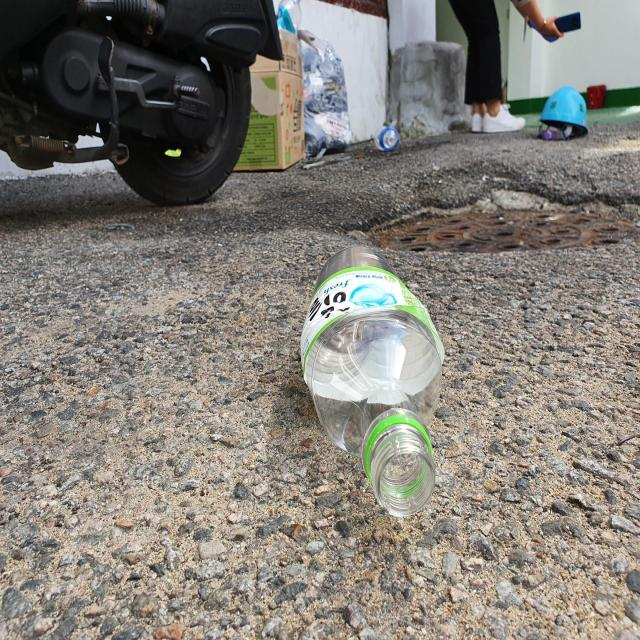plastic: (301, 245, 445, 517)
